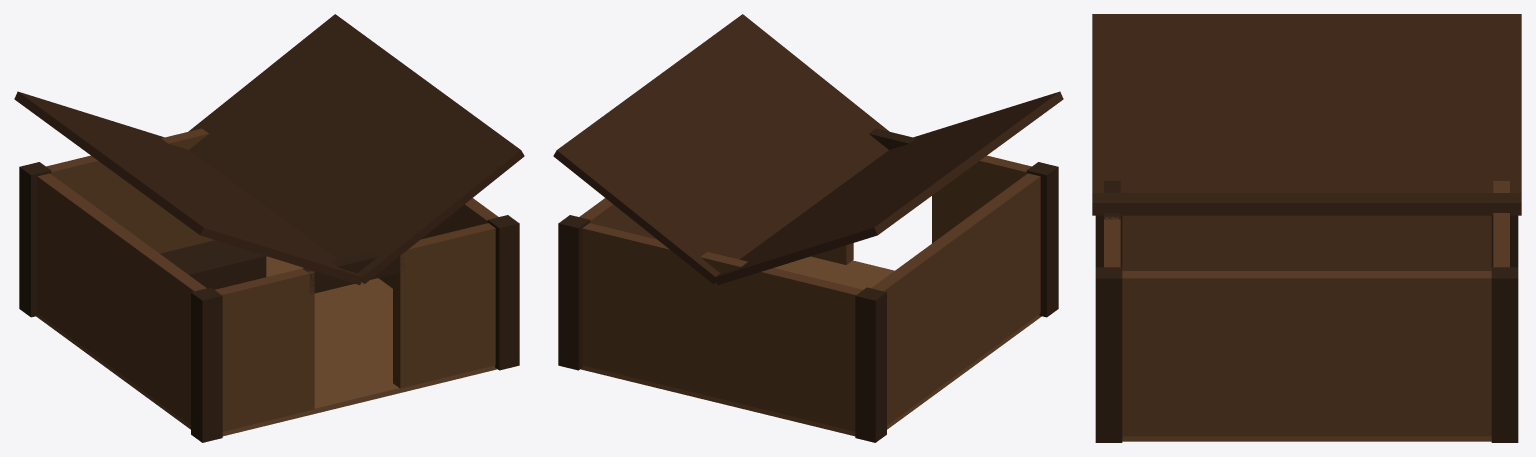
File: cabin.obj
3 renders of one model, left to right at view 1: azimuth 30°, elevation 25°; view 2: azimuth 150°, elevation 25°; view 3: azimuth 270°, elevation 25°, orthographic. The views are drawn at different scales.
Parts seen in each view (by area): view 1: Cube.012, Cube.002, Cube.011, Cube.005, Cube.004, Cube, Cube.001, Cube.007, Cube.008, Cube.013, Cube.009, Cube.006 (+1 smaller); view 2: Cube.012, Cube.001, Cube.002, Cube.011, Cube.009, Cube, Cube.004, Cube.010, Cube.007, Cube.003, Cube.006, Cube.005; view 3: Cube.011, Cube.003, Cube.002, Cube.012, Cube.008, Cube.010, Cube, Cube.001, Cube.005, Cube.007, Cube.009.
Boxes of the visible parts, x1,y1,x2,y2 form: Cube.012: (188, 14, 524, 283); Cube.002: (37, 173, 206, 425); Cube.011: (14, 91, 363, 285); Cube.005: (393, 223, 495, 388); Cube.004: (215, 268, 314, 431); Cube: (36, 256, 497, 436); Cube.001: (46, 128, 266, 256); Cube.007: (191, 287, 222, 442); Cube.008: (487, 215, 519, 370); Cube.013: (160, 240, 266, 289); Cube.009: (19, 162, 51, 317); Cube.006: (302, 252, 404, 294); Cube.012: (553, 14, 889, 283); Cube.001: (582, 223, 862, 431); Cube.002: (871, 173, 1040, 425); Cube.011: (714, 91, 1063, 285); Cube.009: (855, 287, 886, 442); Cube: (580, 256, 1041, 436); Cube.004: (932, 155, 1031, 243); Cube.010: (558, 215, 590, 370); Cube.007: (1026, 162, 1058, 317); Cube.003: (579, 198, 656, 239); Cube.006: (869, 128, 916, 149); Cube.005: (811, 243, 853, 264); Cube.011: (1092, 14, 1521, 192); Cube.003: (1122, 271, 1491, 436); Cube.002: (1122, 215, 1491, 270); Cube.012: (1092, 193, 1521, 215); Cube.008: (1095, 267, 1122, 442); Cube.010: (1491, 267, 1518, 442); Cube: (1122, 436, 1491, 441); Cube.001: (1493, 181, 1509, 267); Cube.005: (1104, 216, 1120, 267); Cube.007: (1095, 215, 1122, 267); Cube.009: (1491, 215, 1518, 267).
Size of the model in its own units: 6.45 by 4.16 by 6.4.
